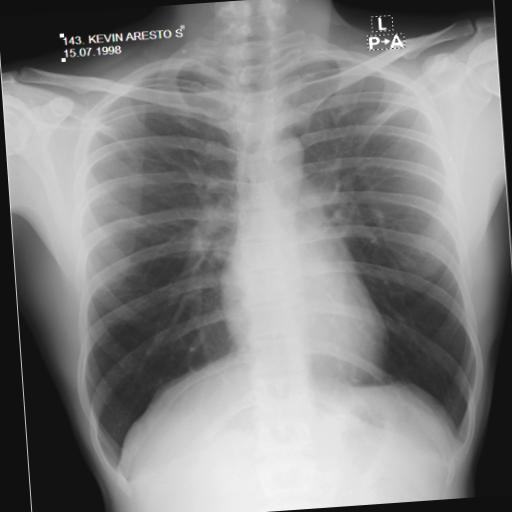normal: (48, 24, 494, 492)
